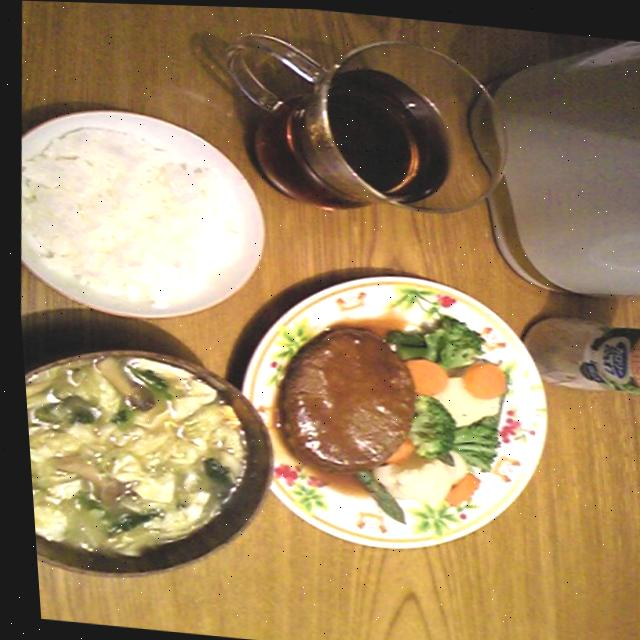米饭主食: (7, 105, 267, 315)
